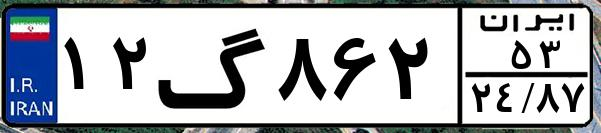1: (57, 26, 110, 100)
2: (385, 28, 445, 110), (110, 28, 156, 98), (470, 70, 495, 125)
3: (537, 27, 568, 80)
4: (495, 70, 520, 125)
5: (508, 27, 537, 80)
6: (330, 28, 385, 110)
7: (560, 70, 590, 125)
8: (270, 28, 330, 110), (535, 70, 560, 125)
گ: (156, 12, 270, 120)
